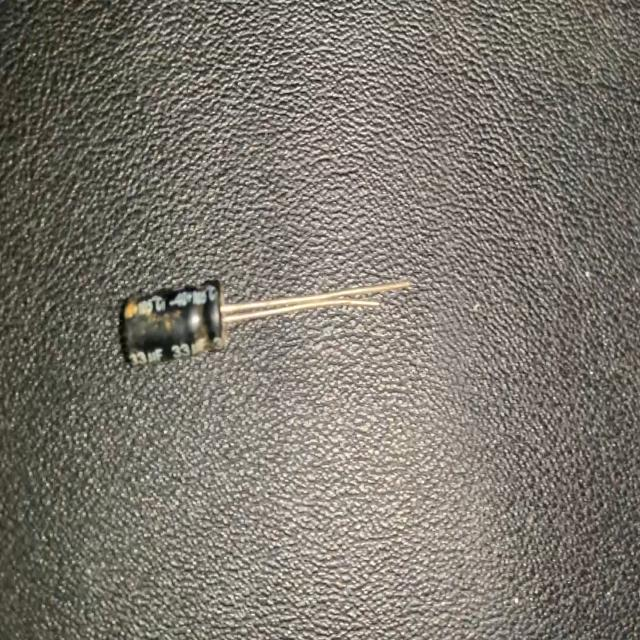capacitor: (117, 276, 415, 374)
rust: (121, 290, 185, 344), (191, 300, 219, 360)
